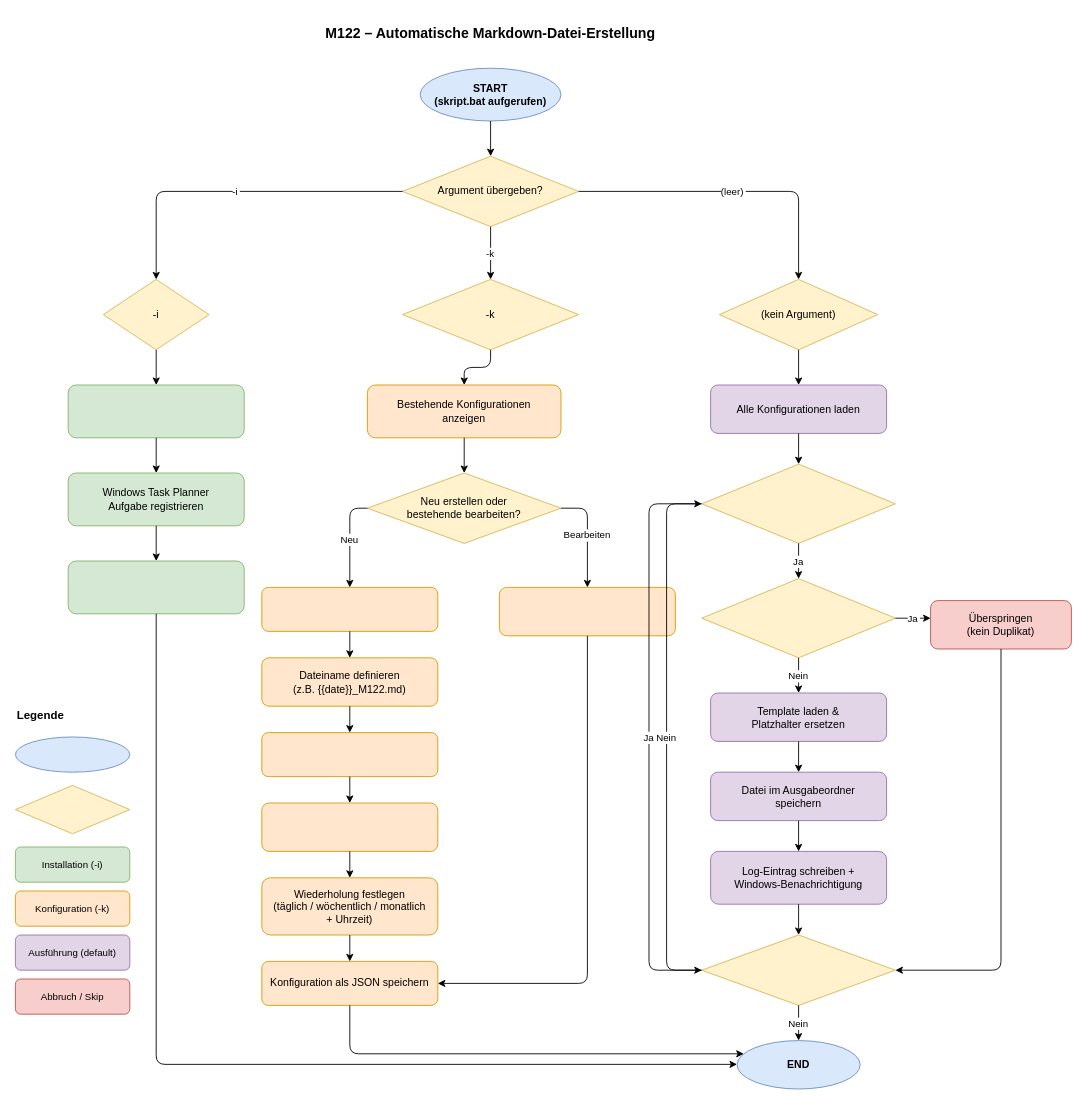
The diagram is 1087 pixels wide and 1104 high, and some of its shapes have lost their labels. The shapes that lost their labels are listed below. From the top down, each one's centre as x and y in pixels, then its label:
[155,411]: Python / Dependencies prüfen & installieren
[798,503]: Für jede Konfiguration: Ist Datei fällig?
[155,587]: Standardordner für Konfigurationen festlegen
[349,609]: Template-Datei auswählen
[587,611]: Konfiguration auswählen & Felder anpassen
[798,618]: Existiert bereits eine Datei für dieses Intervall?
[72,754]: Start / Ende
[349,754]: Ausgabeordner festlegen
[72,809]: Entscheidung
[349,826]: Platzhalter konfigurieren ({{date}}, {{modul}}, etc.)
[798,969]: Weitere Konfigurationen?
